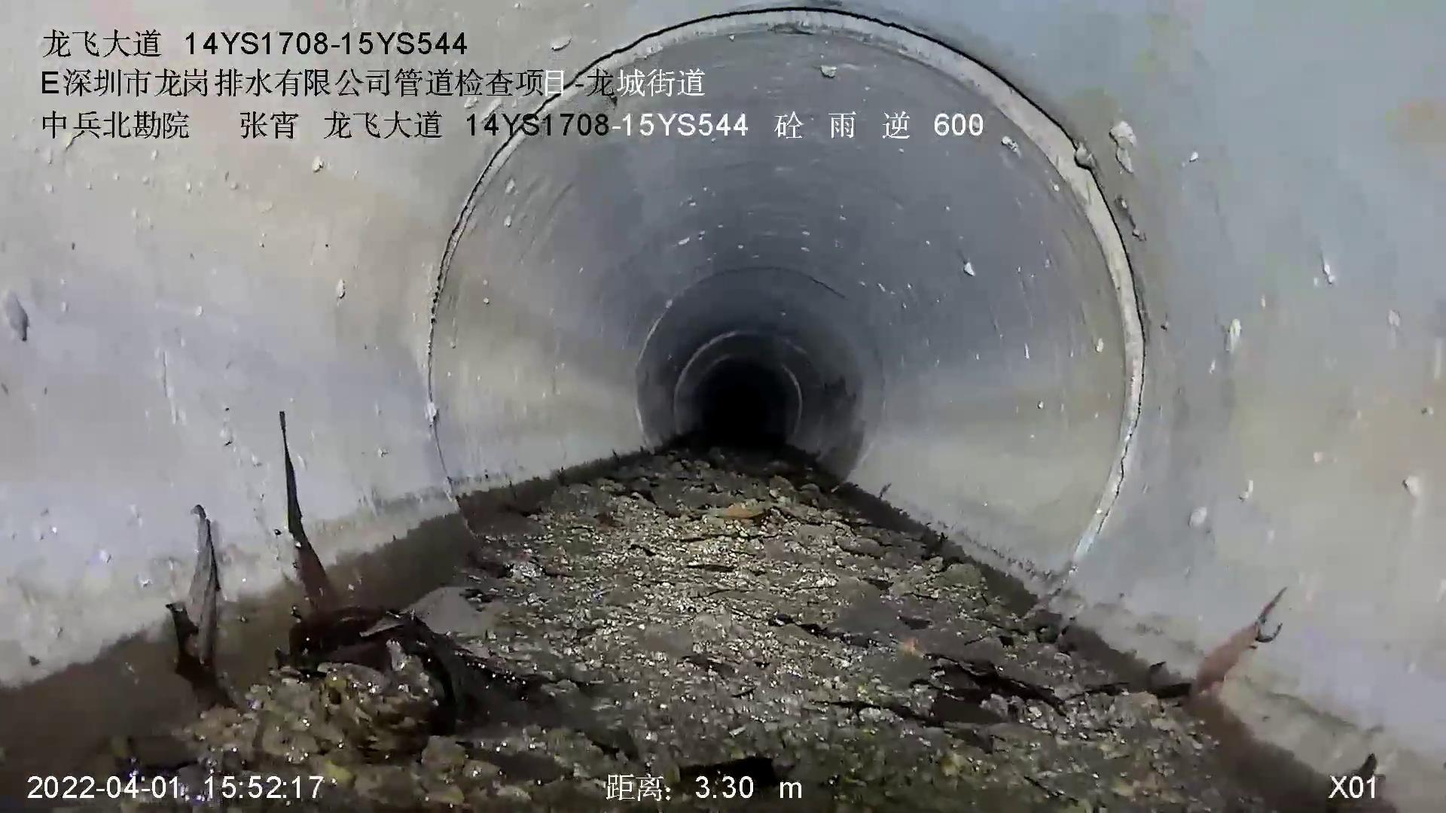CJ: (26, 447, 1264, 812)
CKTJ: (422, 5, 1154, 628)
